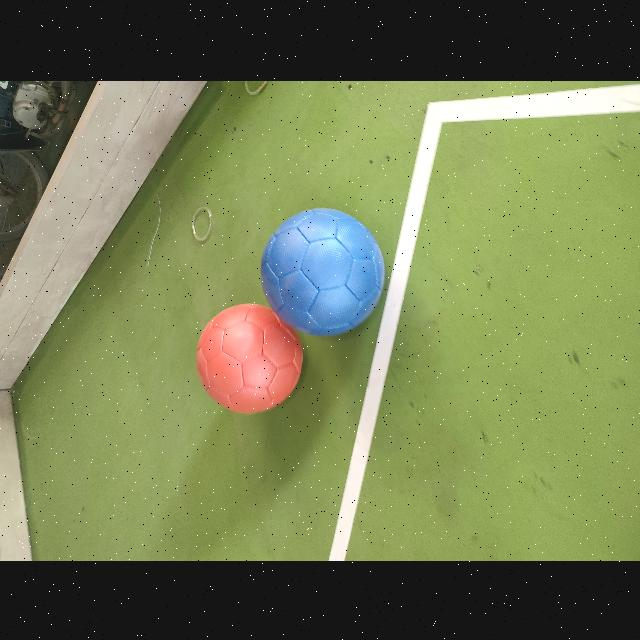B: (261, 208, 384, 334)
R: (196, 303, 302, 412)
